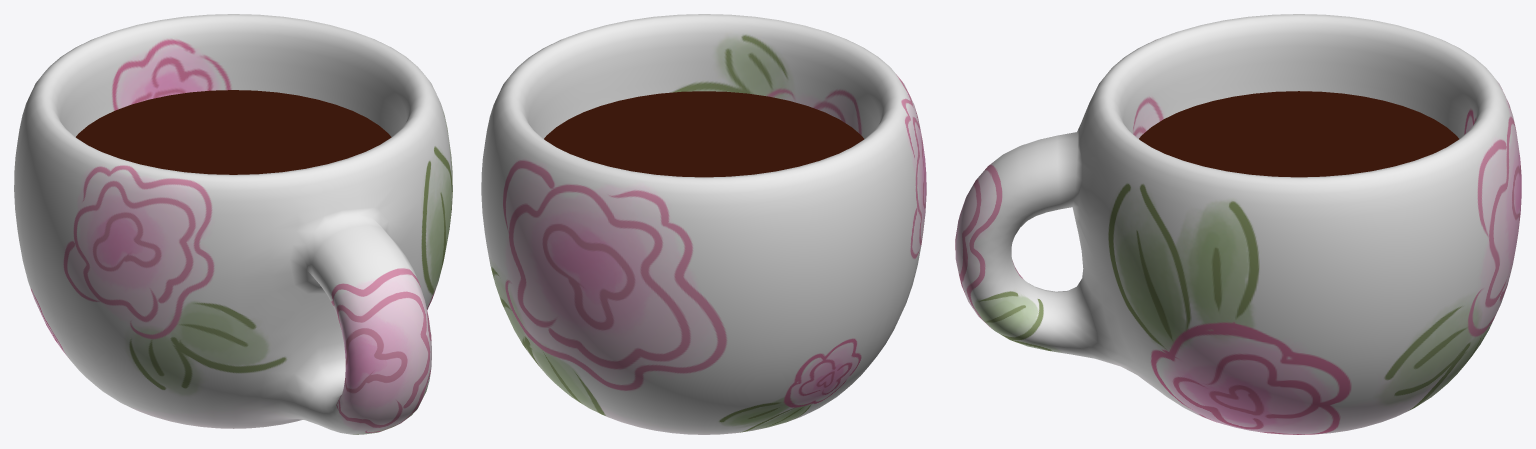
File: Taza_Cdg_1.glb
3 views of the same model, side by side, from view 1: azimuth 30°, elevation 25°; view 2: azimuth 150°, elevation 25°; view 3: azimuth 270°, elevation 25° (orthographic).
Parts seen in each view (by area): view 1: TazaMama_cdg, coffee; view 2: TazaMama_cdg, coffee; view 3: TazaMama_cdg, coffee.
Part boxes in pixels (<box>): TazaMama_cdg: <box>14,14,452,434</box>; coffee: <box>76,90,391,174</box>; TazaMama_cdg: <box>481,14,926,434</box>; coffee: <box>544,91,863,177</box>; TazaMama_cdg: <box>955,14,1521,434</box>; coffee: <box>1139,91,1458,177</box>.
Bounding box in the file's own units: 1.38 × 1.01 × 1.76.
Materials: 2 (1 with a texture image).
